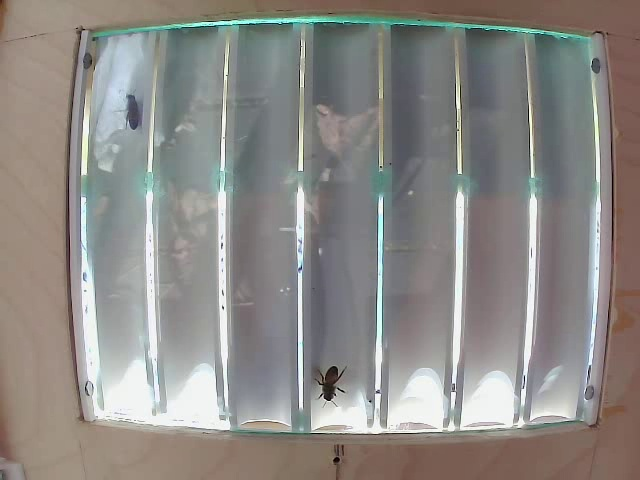bee: (115, 70, 151, 156), (310, 355, 355, 414)
